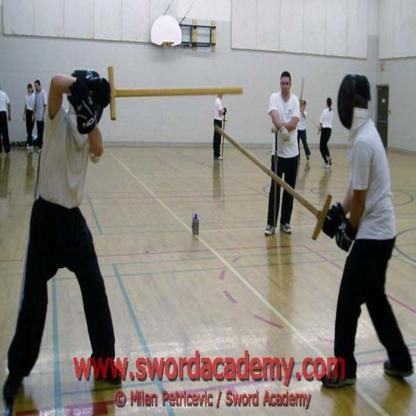face: (281, 77, 291, 96), (35, 82, 41, 92), (28, 87, 33, 94), (302, 104, 306, 112), (220, 91, 223, 99)
